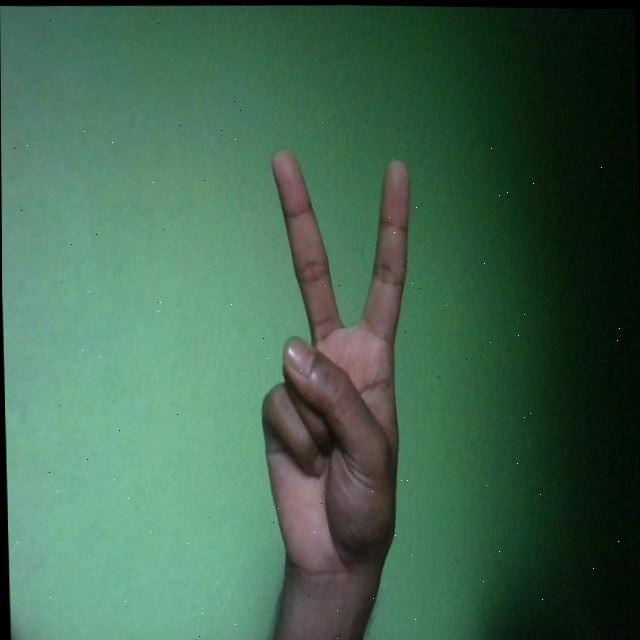Peace: (253, 144, 419, 586)
